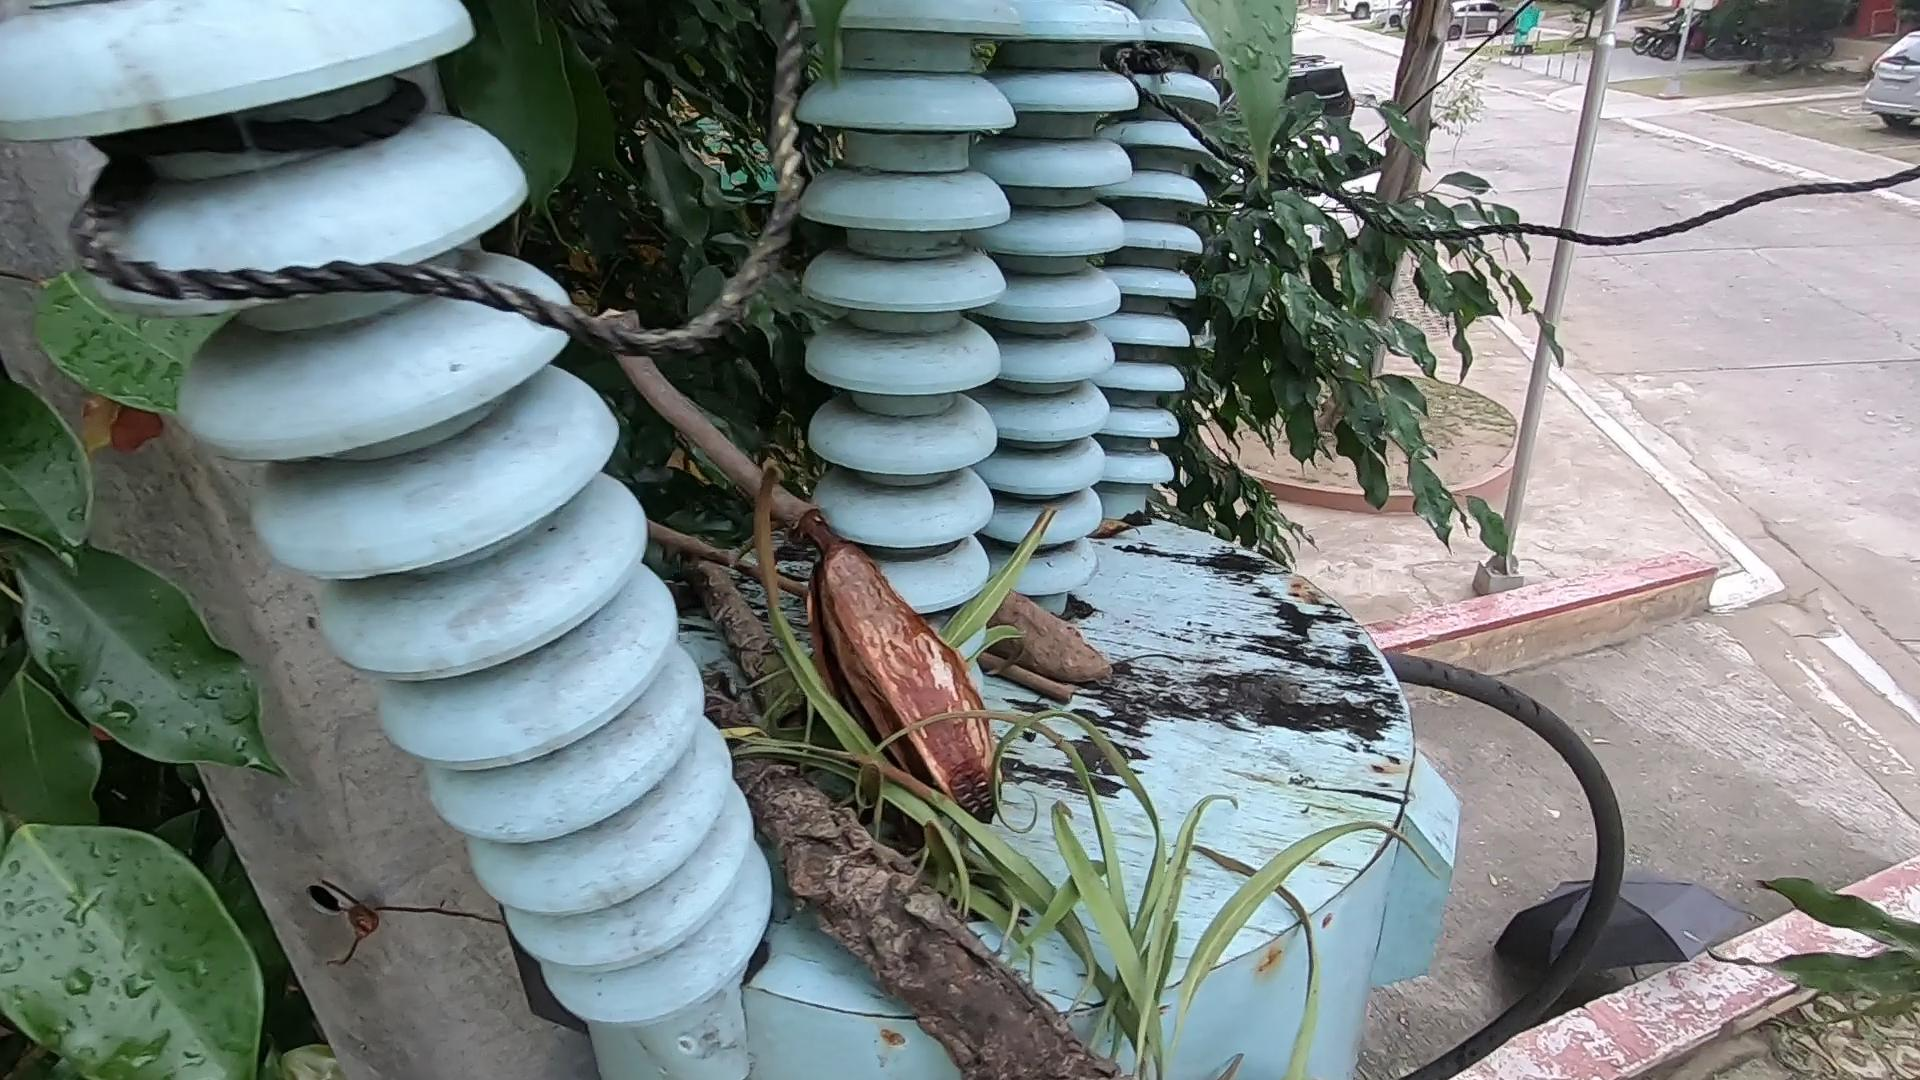branch with leaves: (662, 506, 1204, 1080)
leaf: (1095, 480, 1170, 574)
mahogany fruit: (816, 534, 1026, 819), (1022, 563, 1129, 723)
tree branch: (637, 496, 1083, 698), (611, 295, 820, 524)
